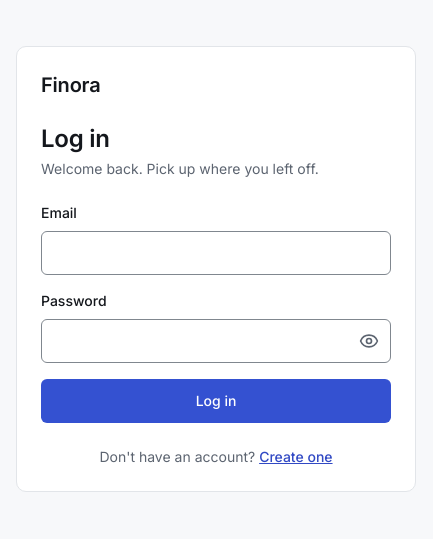
Test: login page › shows a plain message, and logs it, when signing in throws
This screenshot has width=433, height=539.
Check: the heading "Log in" is shown, box [41,124,110,153]
Type "me@example.com" into the field labelled "Email" at {"x": 216, "y": 253}, box [41,231,391,275]
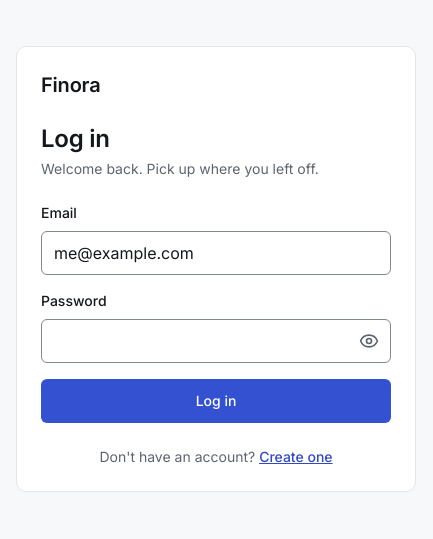
Type "password123" into the password field labelled "Password" at {"x": 216, "y": 341}, box [41,319,391,363]
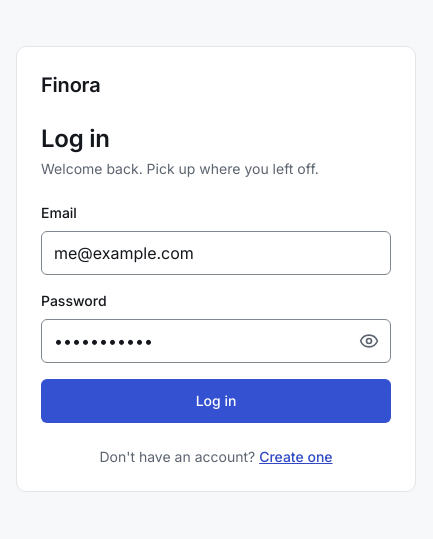
Click the button "Log in" at {"x": 216, "y": 401}, box [41,379,391,423]
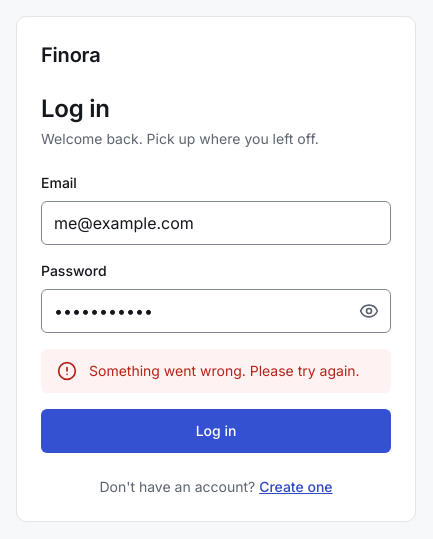
Check: the message reads "Something went wrong. Please try again.", box [89,362,360,379]
